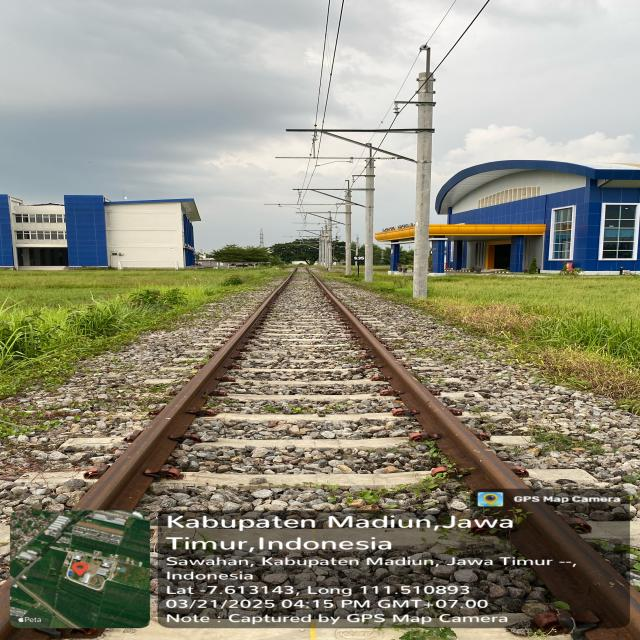rail-detection: (306, 267, 534, 515), (74, 267, 297, 510), (512, 500, 637, 625)
